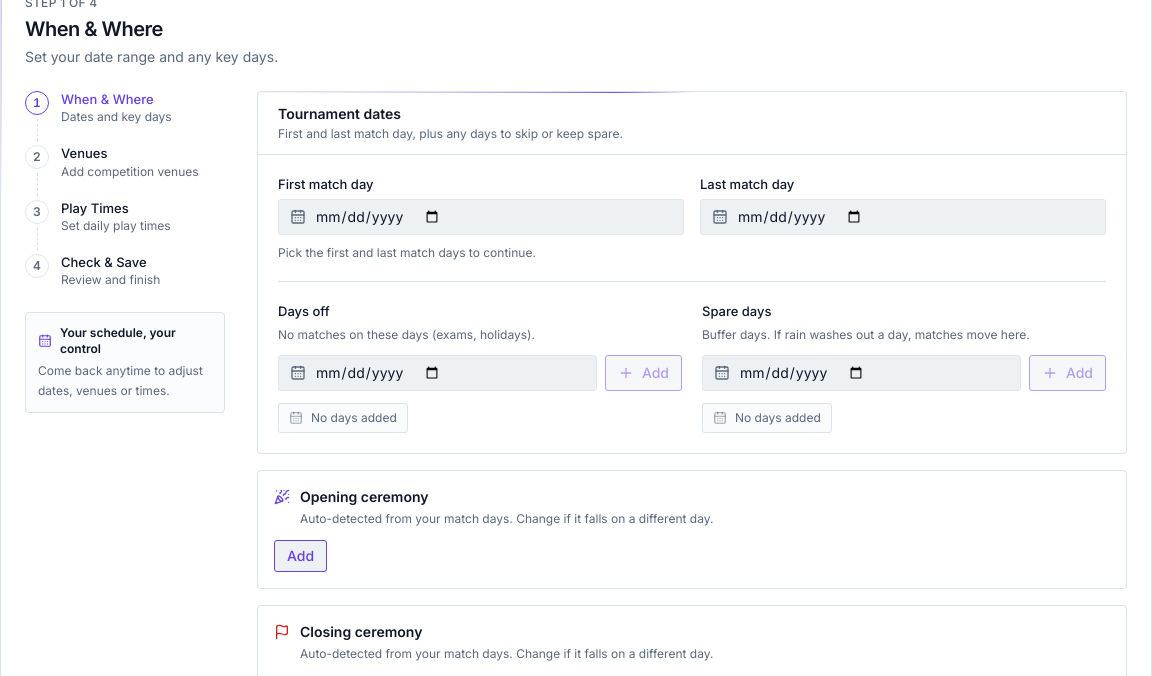
Test: GlobalSetupWizard › shows no second Save on the review step (the primary action is Save)
Type "2026-08-01" into the date field labelled "First match day".
click(481, 216); type("2026-08-01")  # box 278,198 -> 684,234
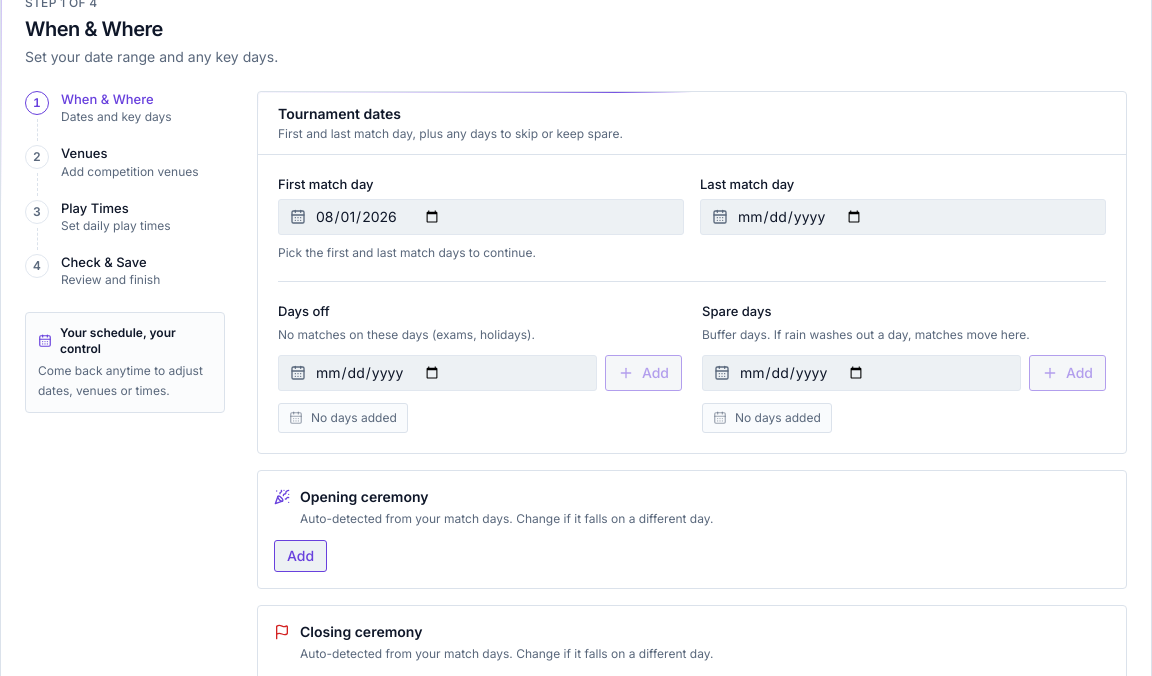
Type "2026-08-05" into the date field labelled "Last match day".
click(903, 216); type("2026-08-05")  # box 700,198 -> 1106,234
(page scrolled)
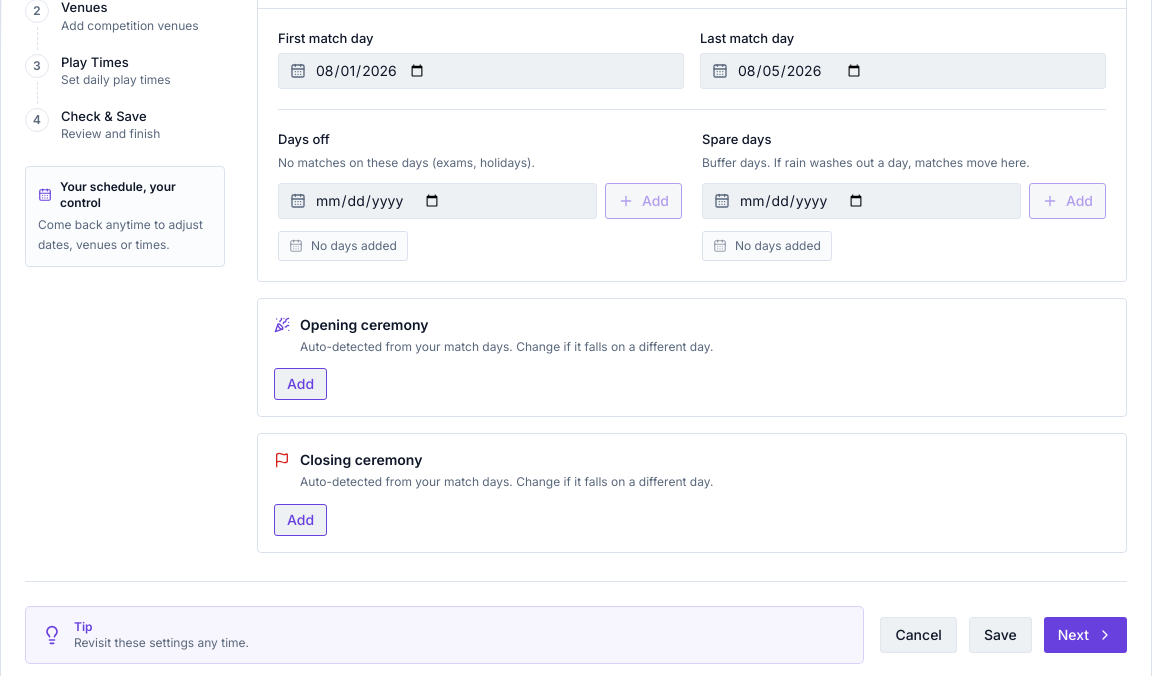
Expected: the button with test id "save-step" is shown, 969,616 -> 1032,652
Click the button "Next".
click(1085, 634)  # box 1044,616 -> 1127,652
(page scrolled)
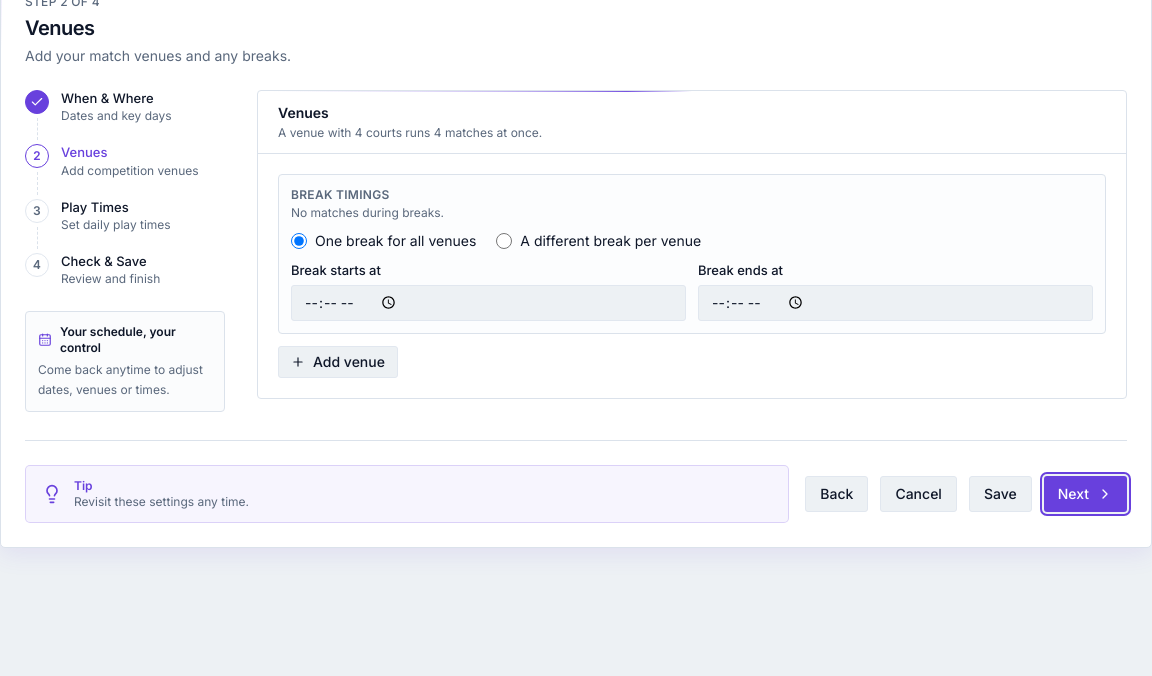
Click the button "Next".
click(1085, 494)  # box 1044,476 -> 1127,512
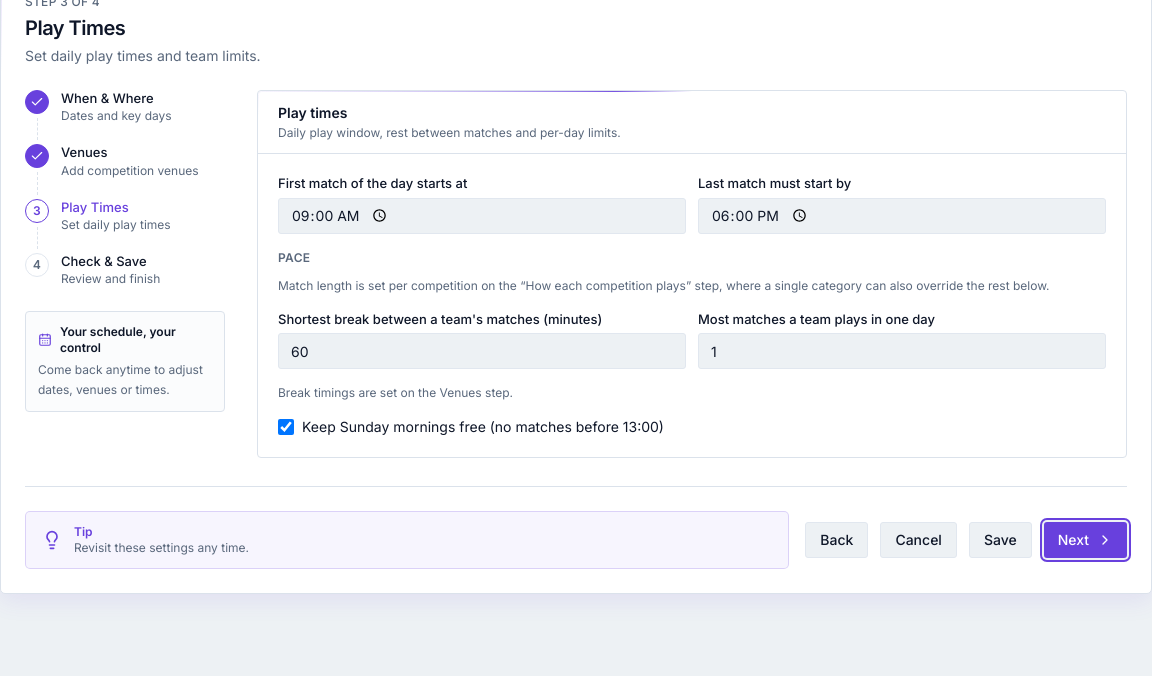
Click the button "Next".
click(1085, 540)  # box 1044,522 -> 1127,558
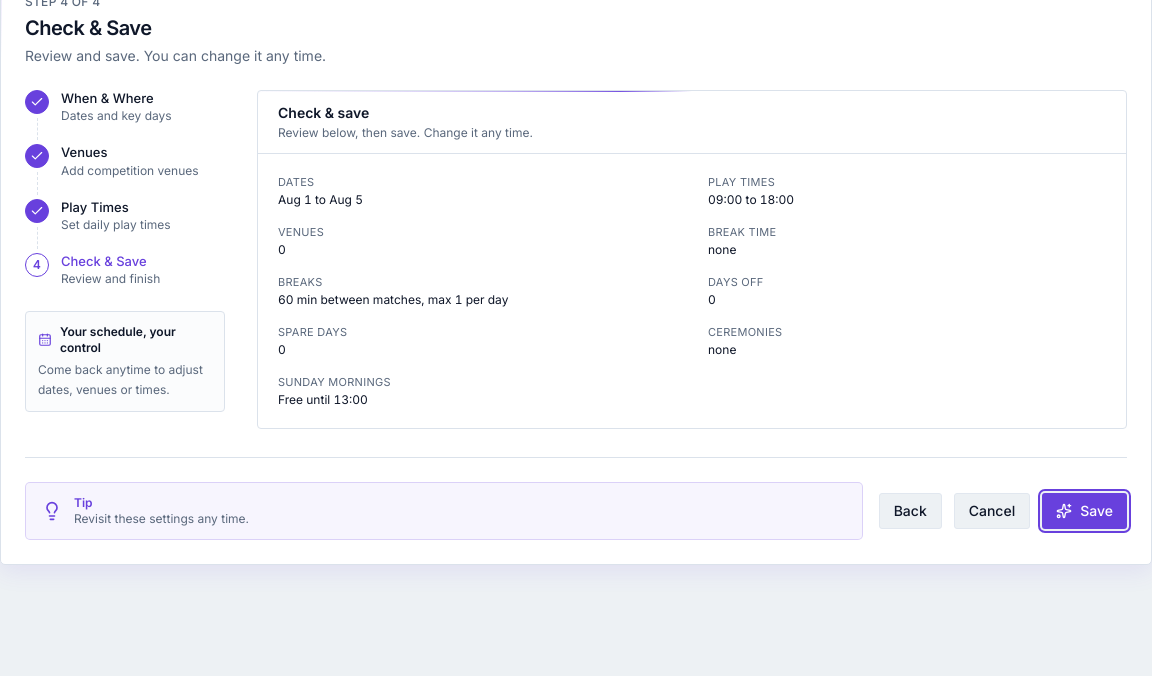
Expected: the button with test id "save-step" is gone
Expected: the button with test id "save-global-setup" is shown, 1042,493 -> 1127,529
